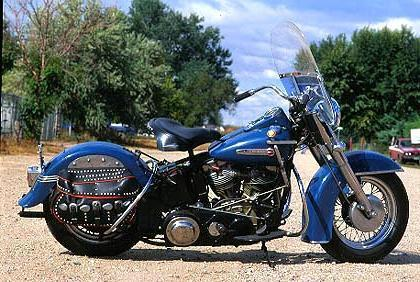motorcycle: (14, 47, 413, 273)
